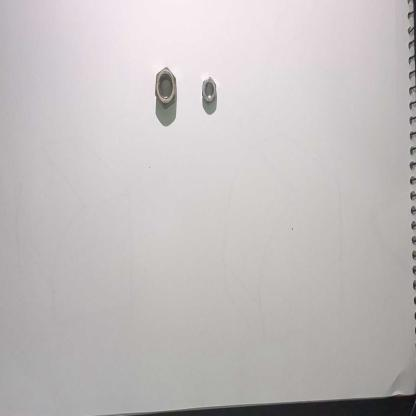NUTS: (155, 64, 178, 110), (199, 68, 219, 110)
